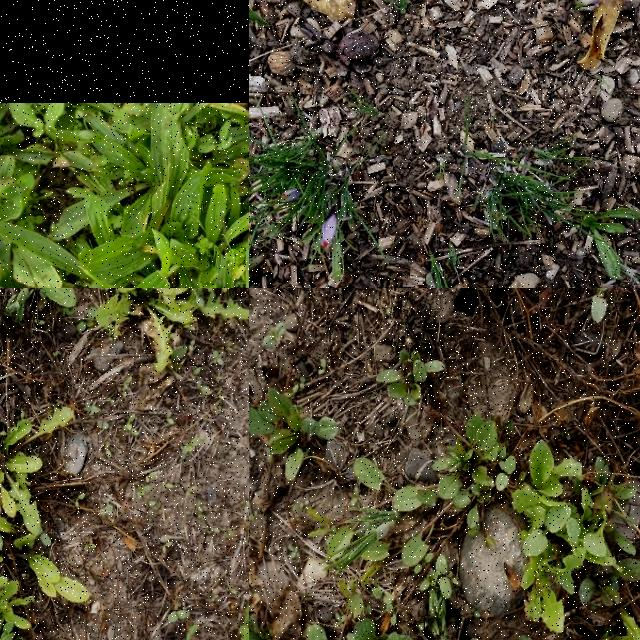flower: (322, 214, 338, 250)
